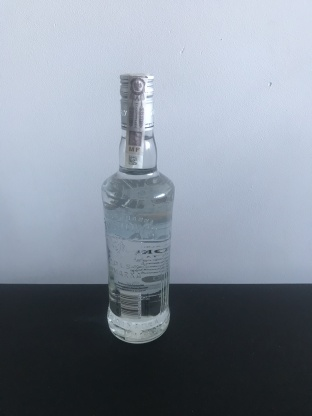nakretka: (117, 69, 158, 135)
